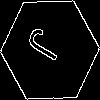J: (25, 25, 71, 69)
